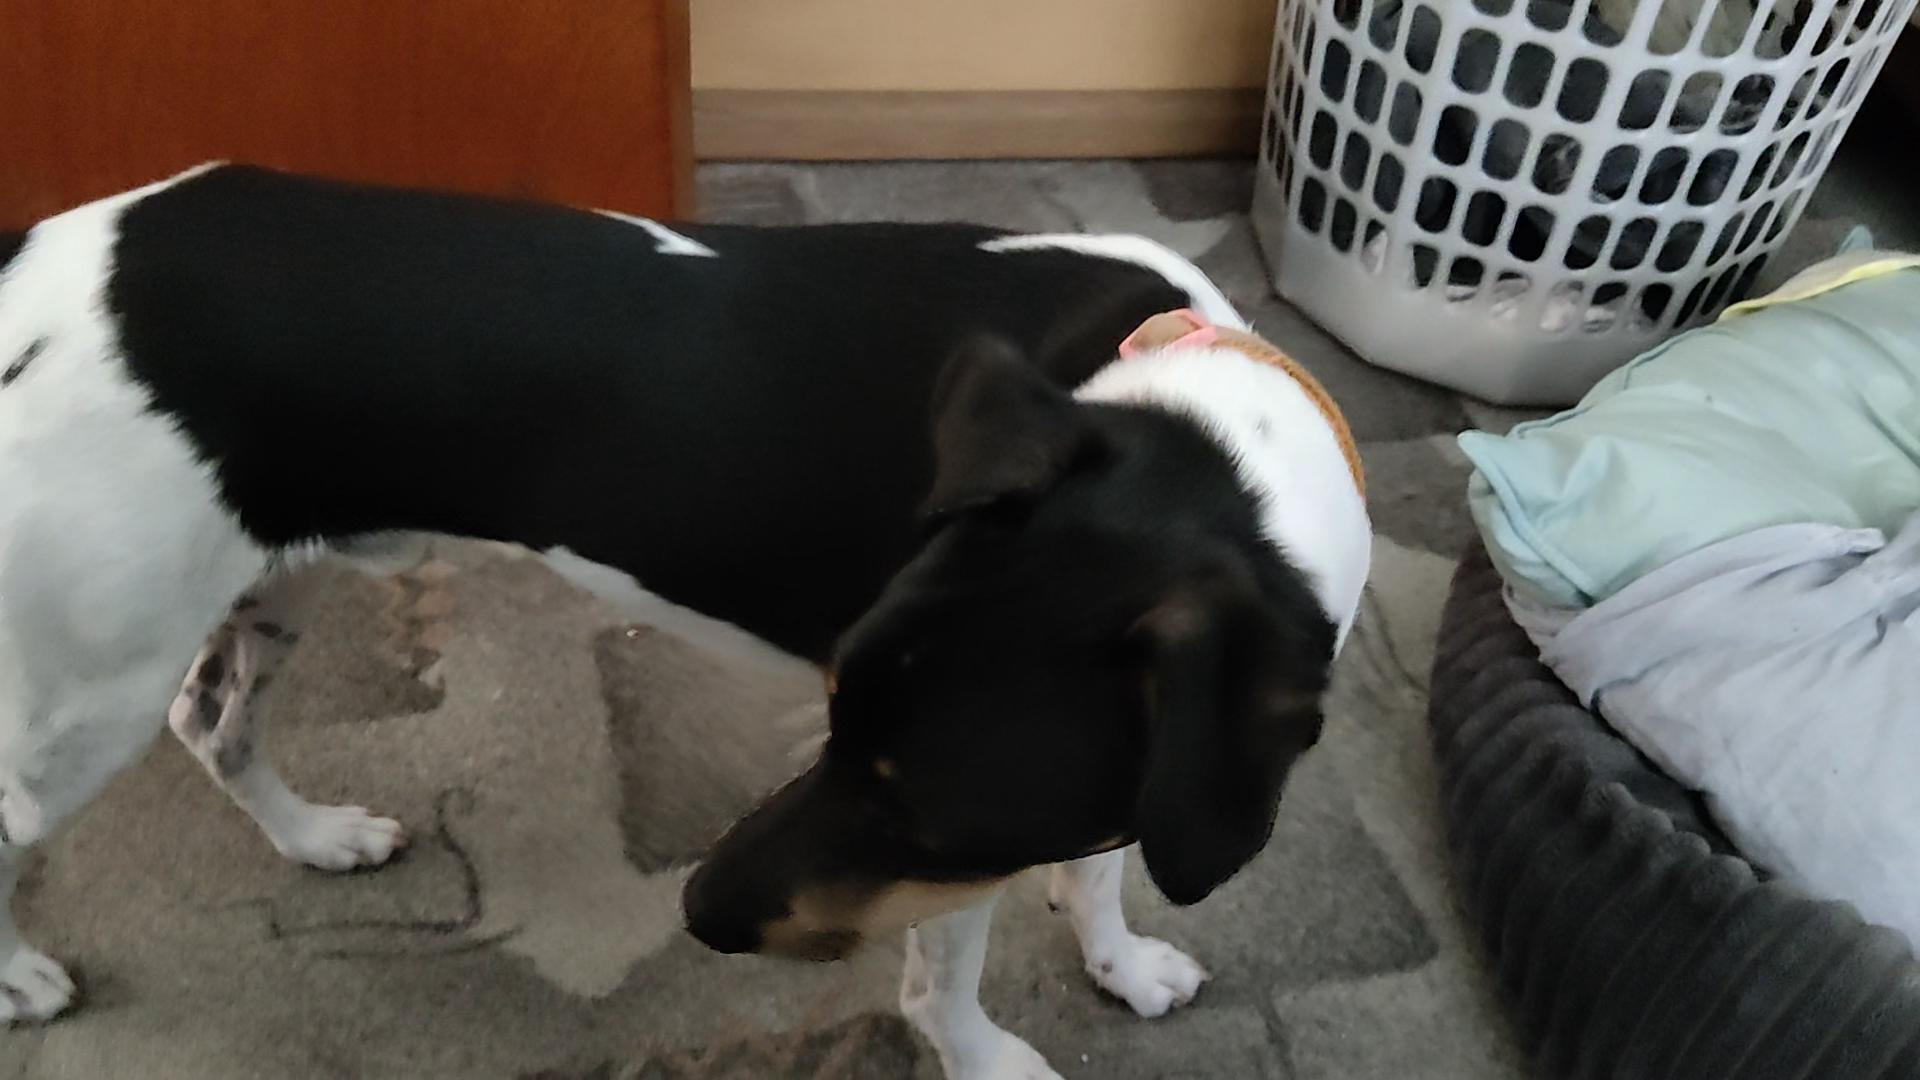Dog: (0, 146, 1393, 1079)
